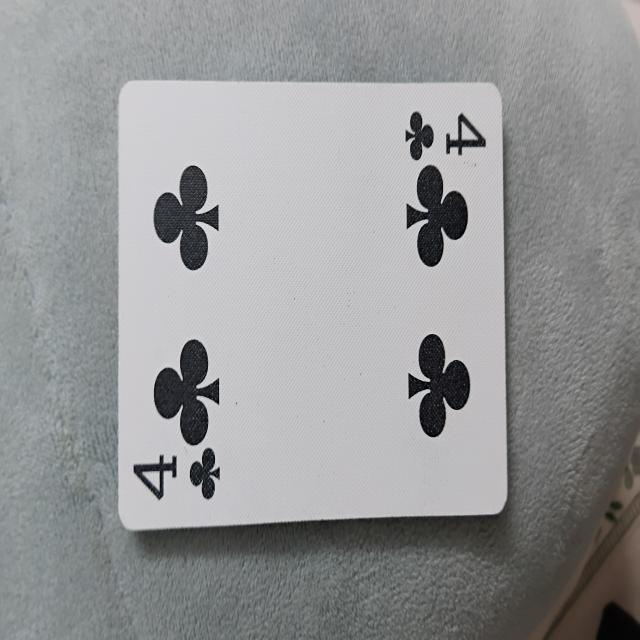4C: (119, 78, 508, 517)
